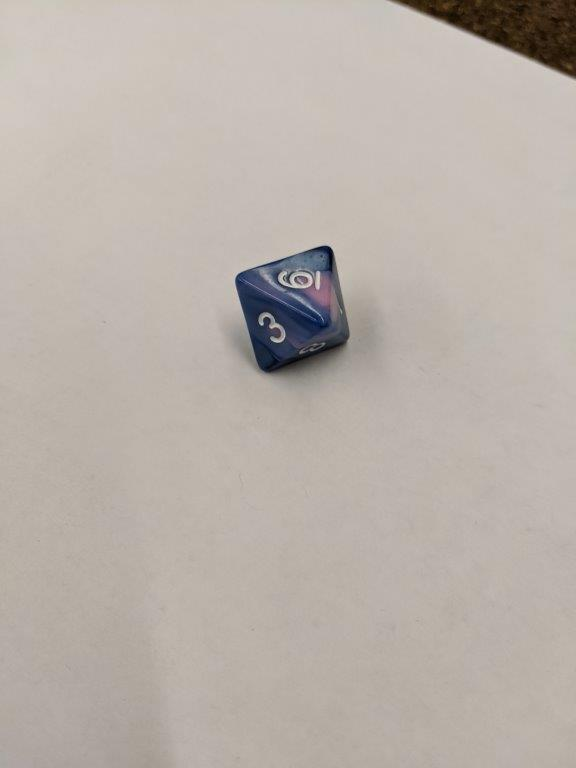d8-6: (233, 241, 354, 377)
